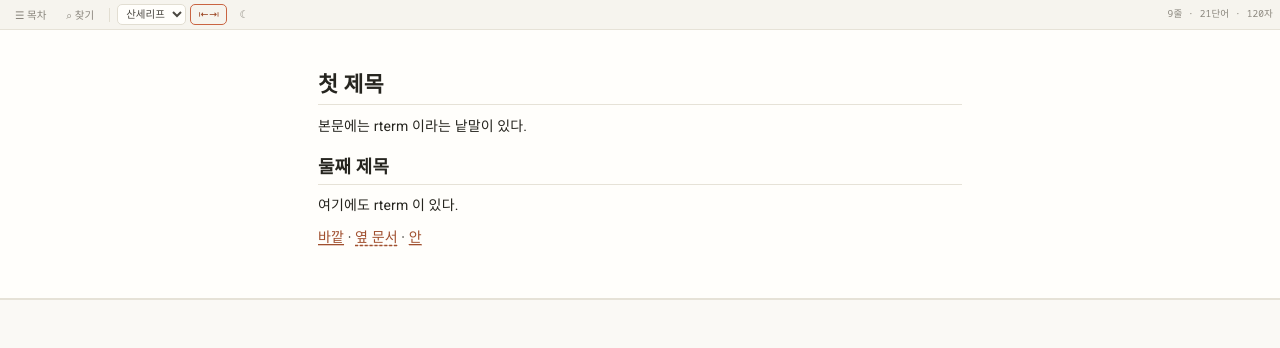
문서 안에서 찾기 › 없는 낱말이면 없다고 알린다
Click the button "⌕ 찾기".
click(80, 14)  # box [58,4,102,25]
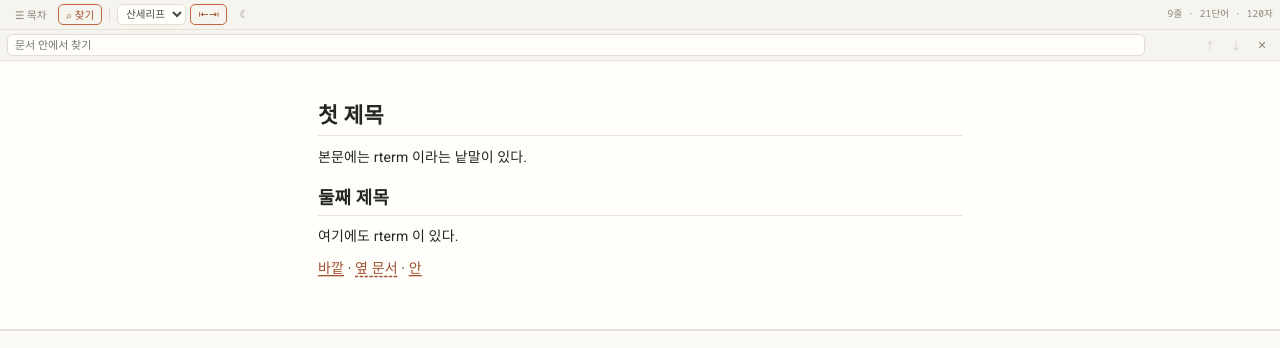
Type "없는낱말" into the field with class "md-find__input".
click(576, 45); type("없는낱말")  # box [7,34,1145,56]
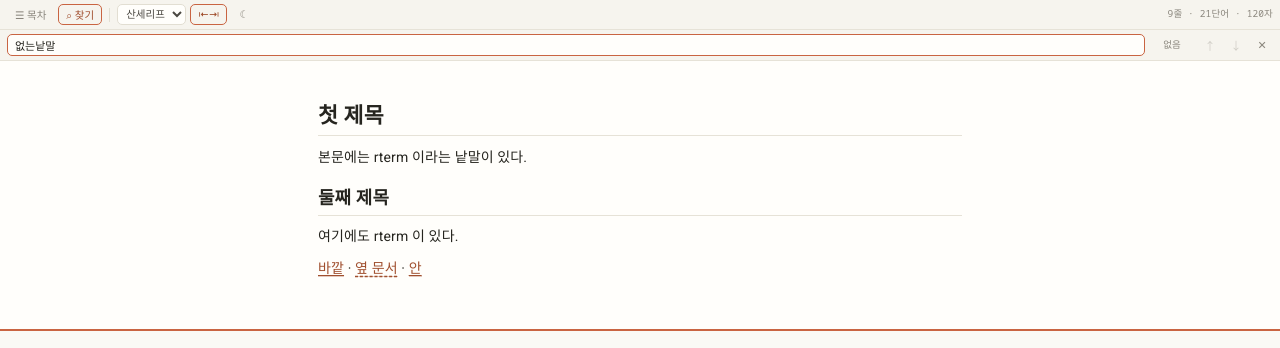
expect the text with class "md-find__count" reads "없음": met, box [1163,38,1181,51]
